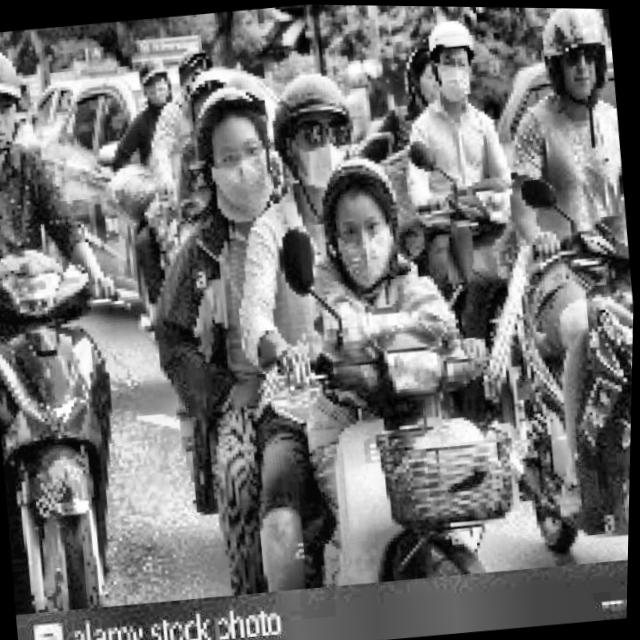motorcycle: (194, 212, 527, 595), (0, 197, 167, 617), (490, 165, 637, 567), (101, 147, 218, 326), (411, 151, 533, 304)
